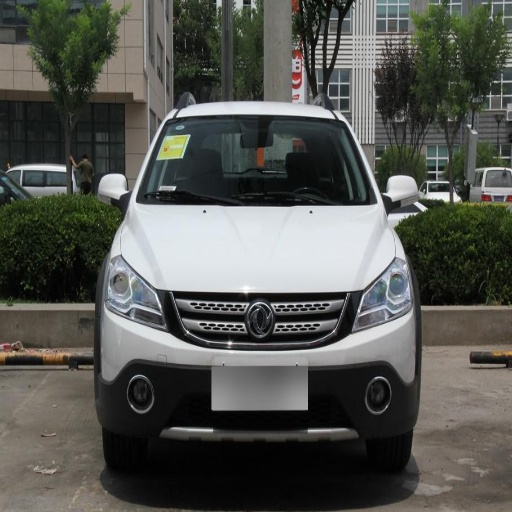front_bumper: (98, 289, 415, 443)
front_right_light: (104, 256, 167, 330)
hood: (123, 203, 395, 304)
